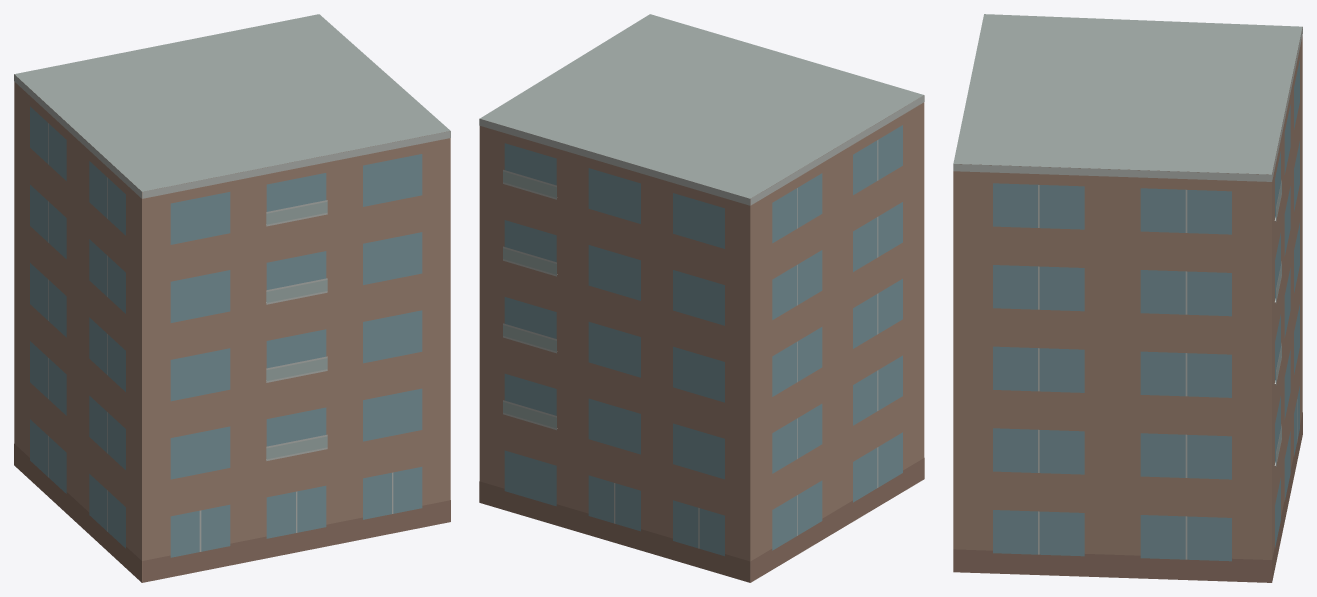
File: survey-upis-32958989.glb
The picture shows the model from 3 angles, left to right: view 1: azimuth 30°, elevation 25°; view 2: azimuth 150°, elevation 25°; view 3: azimuth 270°, elevation 25°; orthographic projection. The views are drawn at different scales.
Parts seen in each view (by area): view 1: survey-upis-32958989.tmp; view 2: survey-upis-32958989.tmp; view 3: survey-upis-32958989.tmp.
Boxes of the visible parts, <box> form: survey-upis-32958989.tmp: <box>14,14,450,582</box>; survey-upis-32958989.tmp: <box>479,14,924,582</box>; survey-upis-32958989.tmp: <box>953,14,1302,582</box>.
Size of the model in its own units: 11.31 by 13.4 by 10.4.
